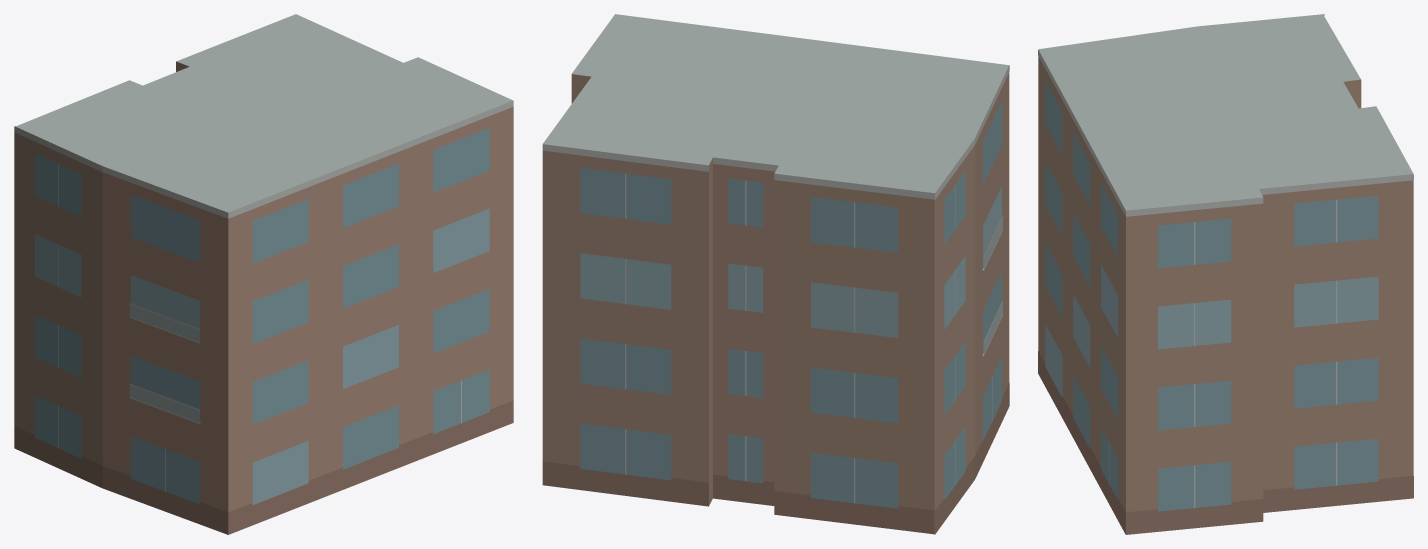
File: survey-upis-32910072.glb
3 views of the same model, side by side, from view 1: azimuth 30°, elevation 25°; view 2: azimuth 150°, elevation 25°; view 3: azimuth 270°, elevation 25° (orthographic). The views are drawn at different scales.
Visible parts, largest first — view 1: survey-upis-32910072.tmp; view 2: survey-upis-32910072.tmp; view 3: survey-upis-32910072.tmp.
Part boxes in pixels (x1,y1,x2,y2): survey-upis-32910072.tmp: (14, 14, 513, 534); survey-upis-32910072.tmp: (542, 14, 1009, 534); survey-upis-32910072.tmp: (1038, 14, 1413, 534).
Size of the model in its own units: 16.8 by 12.9 by 13.56.
